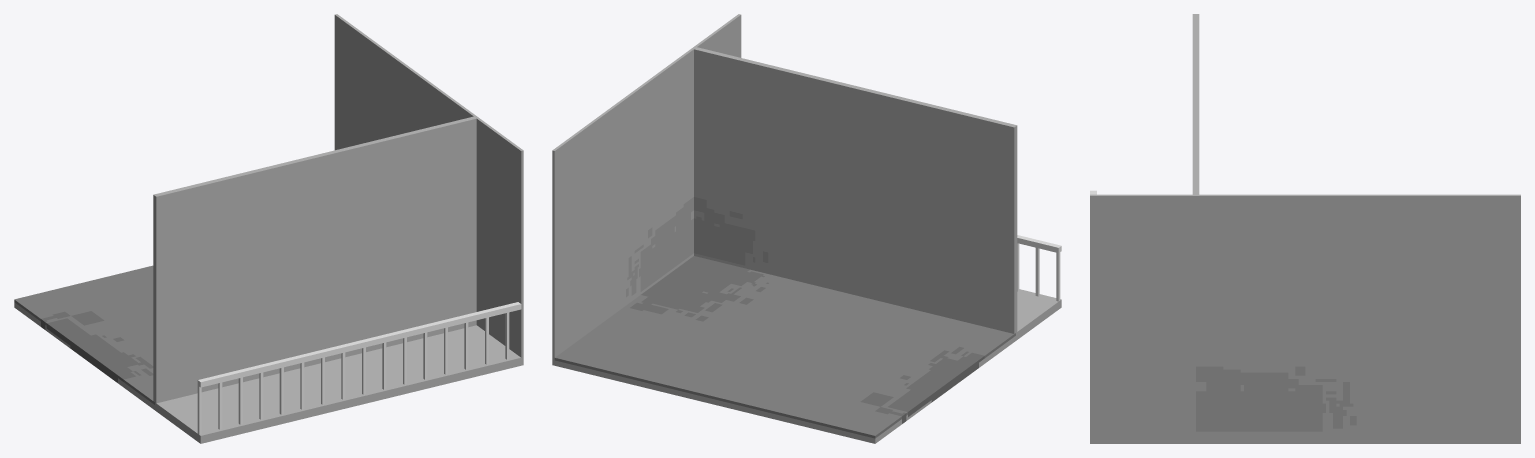
The model's file is 4x2 third (1)-6.obj.
The picture shows the model from 3 angles, left to right: view 1: azimuth 30°, elevation 25°; view 2: azimuth 150°, elevation 25°; view 3: azimuth 270°, elevation 25°; orthographic projection. The views are drawn at different scales.
Parts seen in each view (by area): view 1: 4x2 third (1)-6; view 2: 4x2 third (1)-6; view 3: 4x2 third (1)-6.
Boxes of the visible parts, box(x1,y1,x2,y2) form: 4x2 third (1)-6: box(14, 14, 523, 443); 4x2 third (1)-6: box(552, 14, 1061, 443); 4x2 third (1)-6: box(1090, 14, 1520, 443).
Bounding box in the file's own units: 126 × 80 × 126.
Materials: 1 (1 with a texture image).
